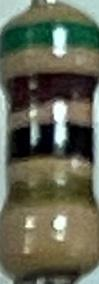Black: (8, 118, 91, 165)
Brown: (2, 68, 98, 116)
Green: (1, 18, 99, 58)
Side-Gold: (4, 176, 96, 216)
